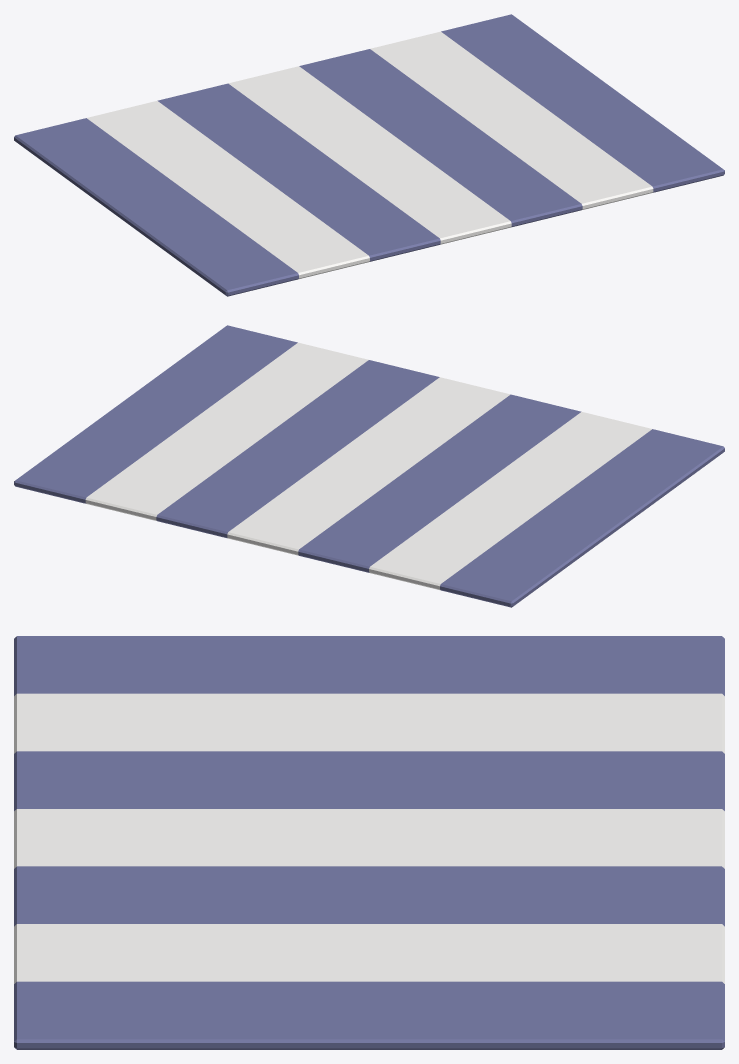
The model's file is Carpet_13.glb.
3 renders of one model, top to bottom at view 1: azimuth 30°, elevation 25°; view 2: azimuth 150°, elevation 25°; view 3: azimuth 270°, elevation 25°, orthographic. The views are drawn at different scales.
Parts seen in each view (by area): view 1: Carpet_13; view 2: Carpet_13; view 3: Carpet_13.
Boxes of the visible parts, bbox=[...] form: Carpet_13: bbox=[14, 14, 724, 296]; Carpet_13: bbox=[14, 325, 724, 607]; Carpet_13: bbox=[14, 636, 724, 1049].
Size of the model in its own units: 2.98 by 0.0364 by 2.21.
1 material, 1 textured.
